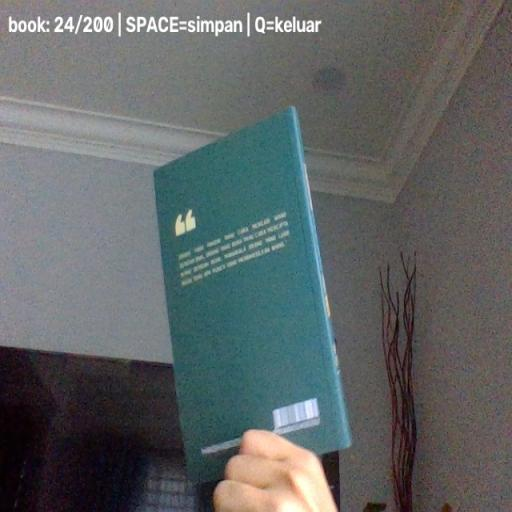Book: (152, 106, 352, 486)
